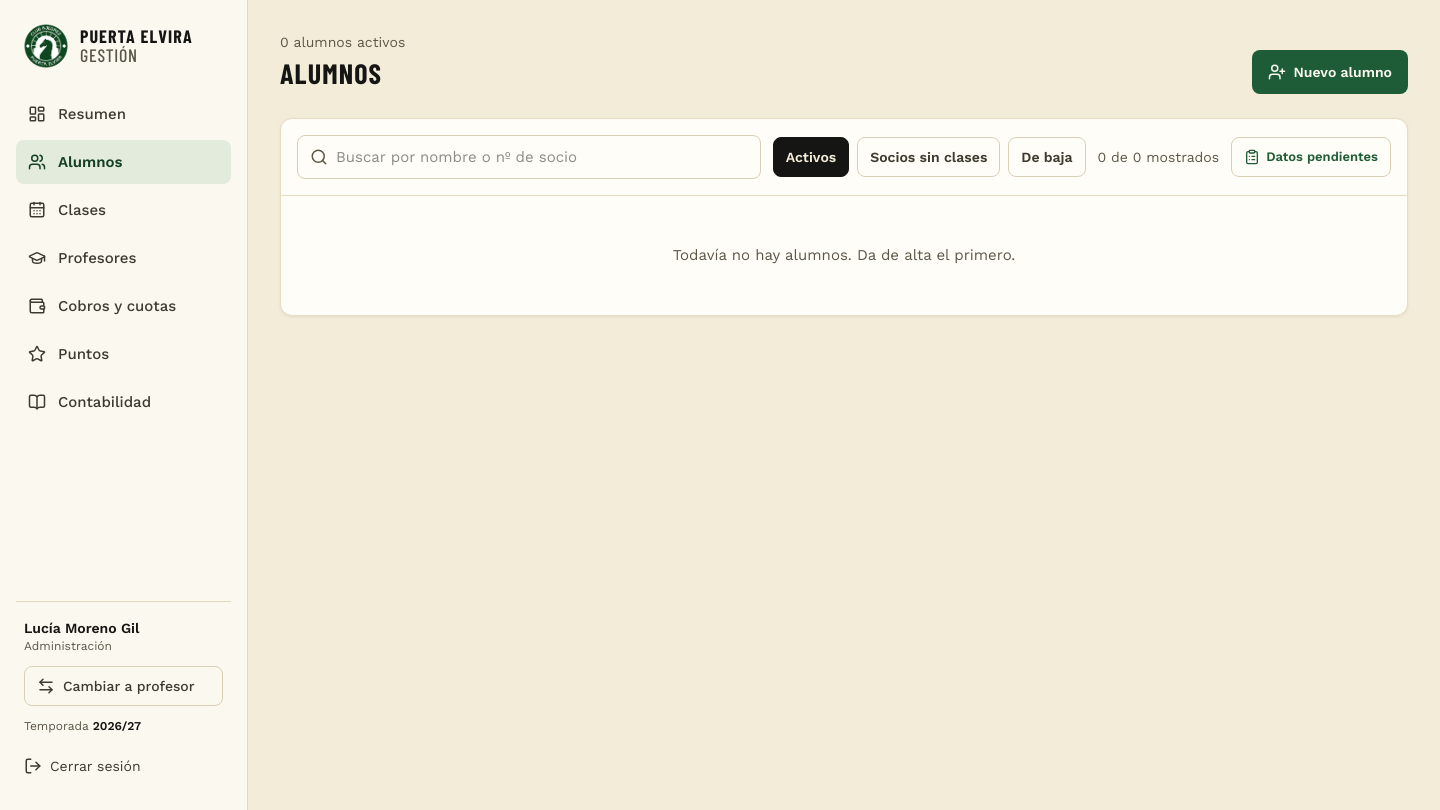
Test: administración que también da clases › should switch to the teacher space and back from the sidebar
Click the button "Cambiar a profesor" at point(124, 686), box [24,666,223,706]
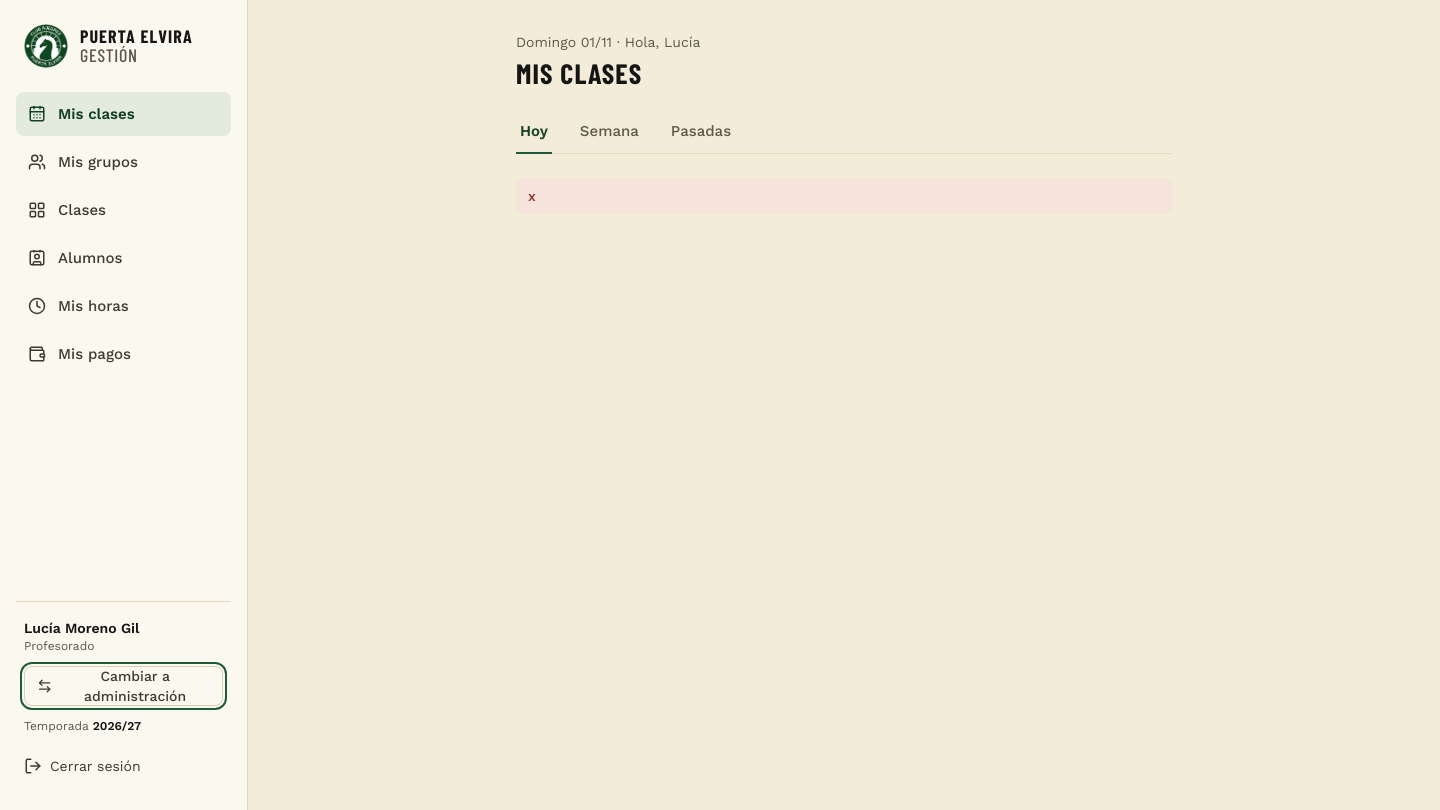
Check: the heading "Mis clases" is shown, box [516,56,642,90]
Check: the link "Mis grupos" is shown, box [28,153,138,171]
Check: the link "Cobros y cuotas" is gone
Click the button "Cambiar a administración" at point(124, 686), box [24,666,223,706]
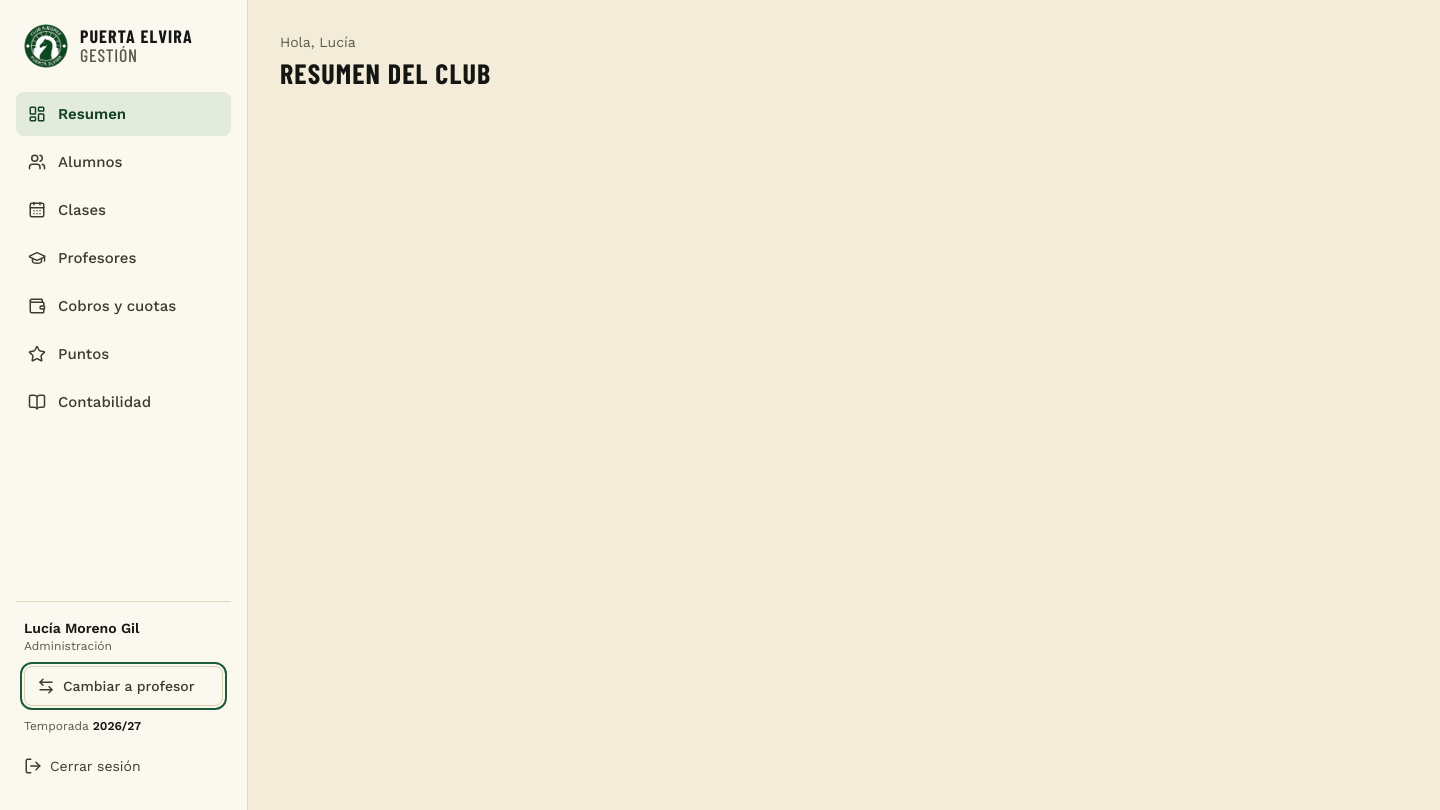
Check: the heading "Resumen del club" is shown, box [280,56,491,90]
Check: the link "Cobros y cuotas" is shown, box [28,297,176,315]
